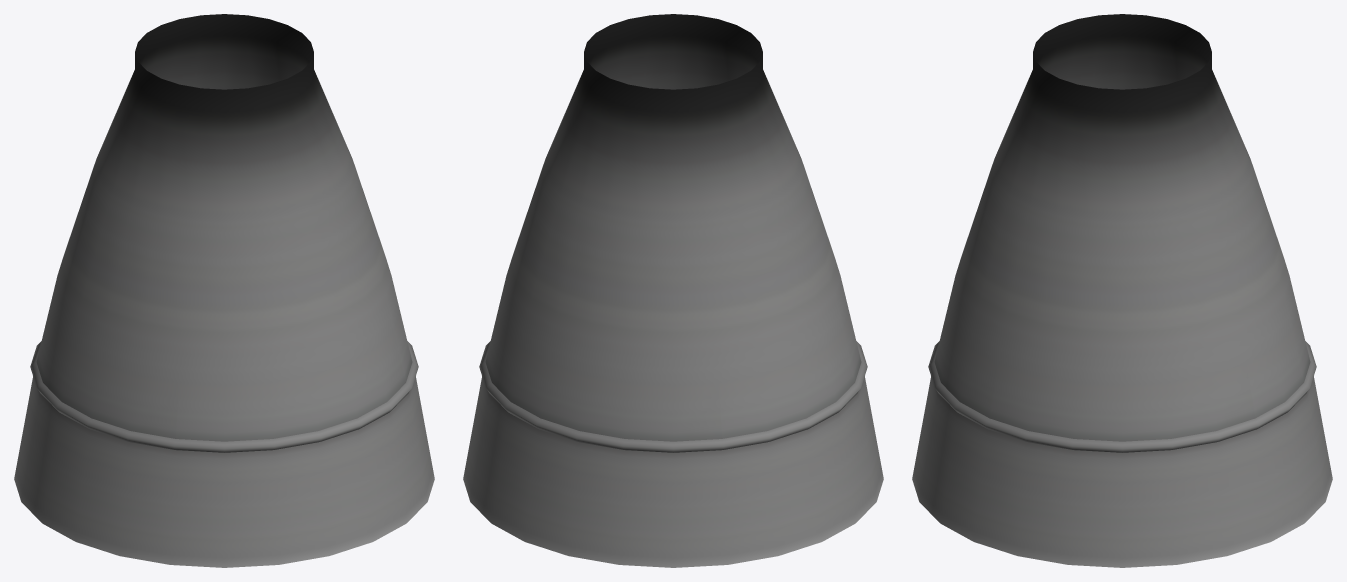
The model's file is ALV_3_Engine_1_Nozzle.obj.
3 views of the same model, side by side, from view 1: azimuth 30°, elevation 25°; view 2: azimuth 150°, elevation 25°; view 3: azimuth 270°, elevation 25° (orthographic).
Visible parts, largest first — view 1: ALV_3_Engine_1_Nozzle; view 2: ALV_3_Engine_1_Nozzle; view 3: ALV_3_Engine_1_Nozzle.
Boxes of the visible parts, x1=… form: ALV_3_Engine_1_Nozzle: x1=14, y1=14, x2=434, y2=567; ALV_3_Engine_1_Nozzle: x1=463, y1=14, x2=883, y2=567; ALV_3_Engine_1_Nozzle: x1=912, y1=14, x2=1332, y2=567.
Size of the model in its own units: 0.9517 by 1.07 by 0.9517.
